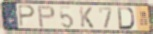5: (58, 6, 75, 30)
7: (98, 7, 114, 30)
D: (117, 6, 136, 31)
K: (79, 6, 96, 29)
P: (17, 5, 37, 29), (37, 5, 56, 28)
